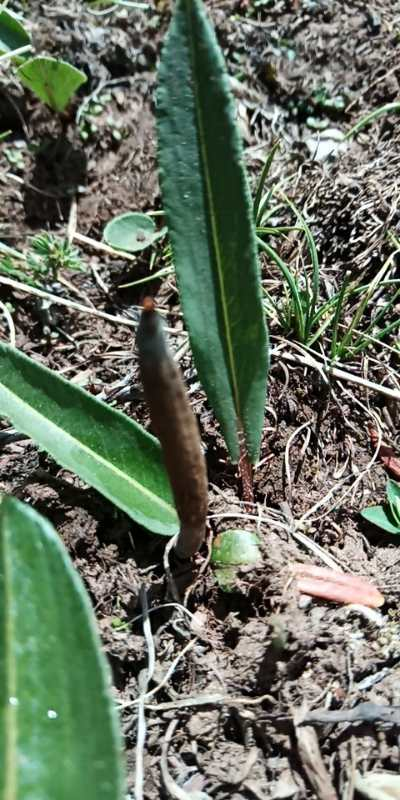Chongcao: (135, 296, 210, 560)
